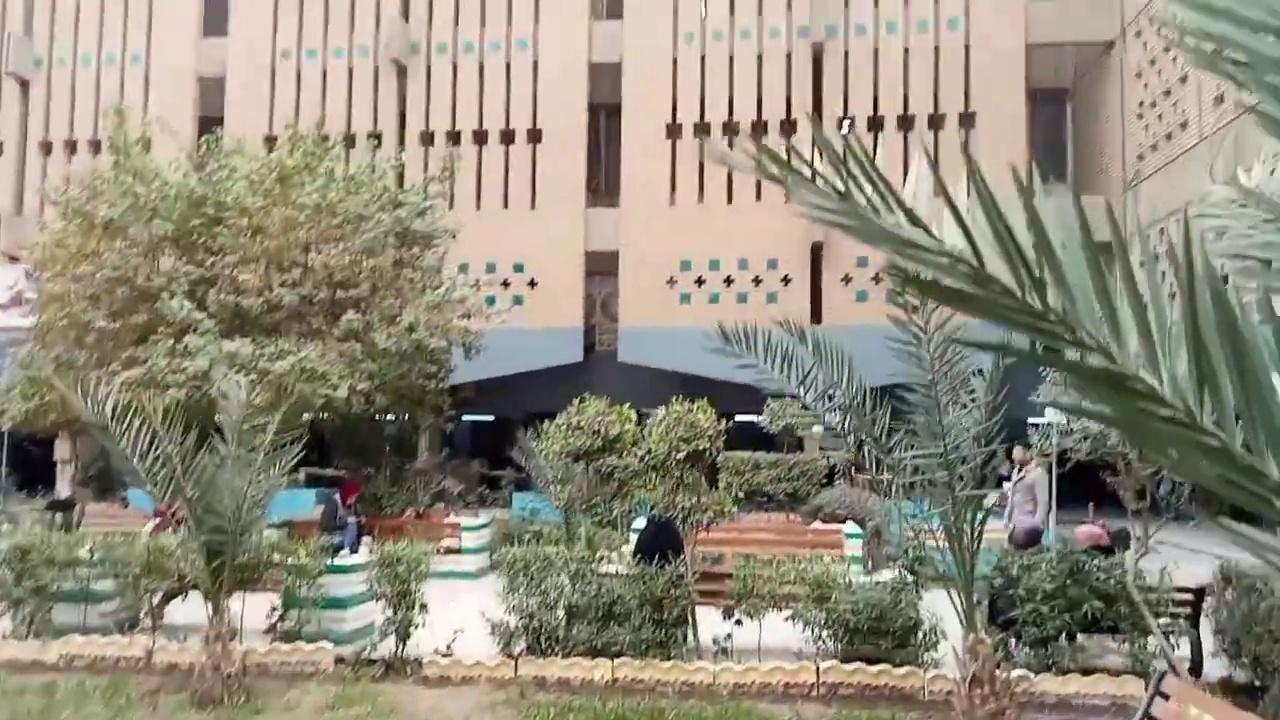person: (1002, 442, 1050, 550), (317, 486, 364, 557)
tree: (698, 111, 1278, 715), (1, 100, 533, 705), (717, 267, 1030, 674), (492, 389, 827, 661), (356, 533, 435, 677)
